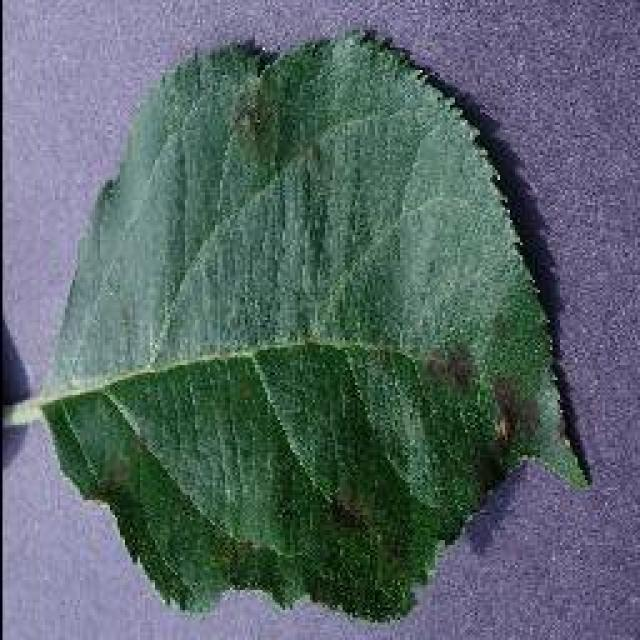apple scab disease: (20, 28, 592, 622)
